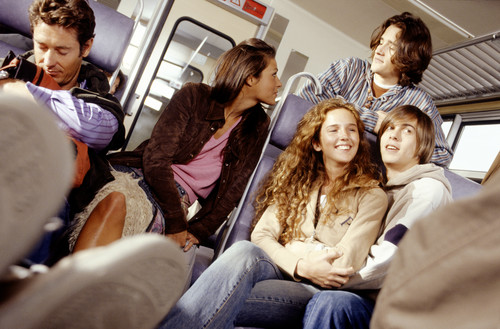without_mask: (33, 29, 78, 82), (322, 114, 358, 161), (382, 118, 416, 164), (370, 31, 404, 72), (257, 60, 283, 107)
